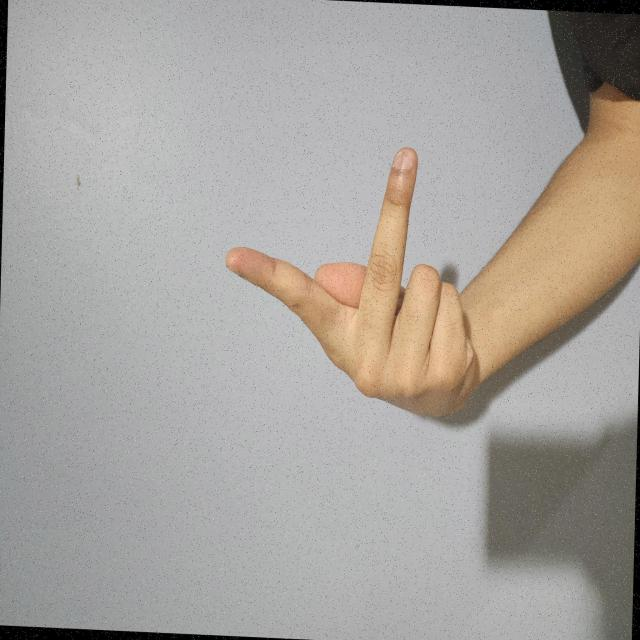K: (159, 287, 380, 640)
